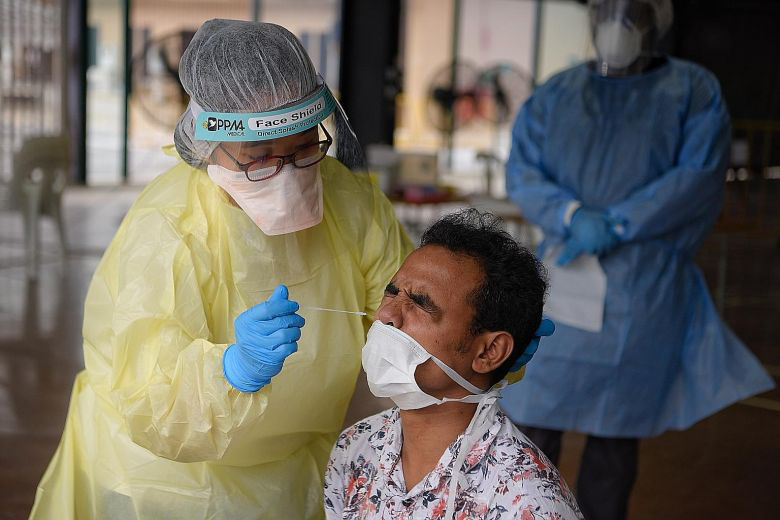Coverall: (77, 173, 365, 520), (520, 60, 737, 420)
Gloves: (215, 285, 302, 395), (565, 201, 624, 262)
mask_weared_incorrect: (360, 284, 451, 410)
with_mask: (224, 131, 326, 235), (592, 1, 648, 69)
